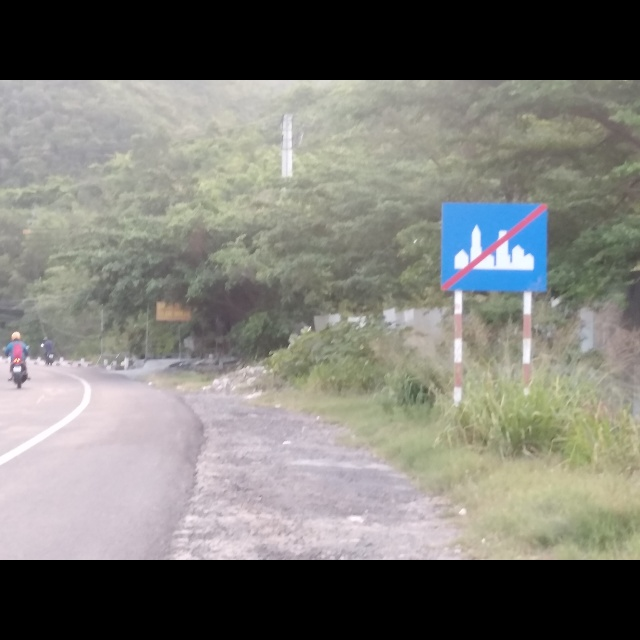Hết khu đông dân cư: (439, 200, 549, 295)
